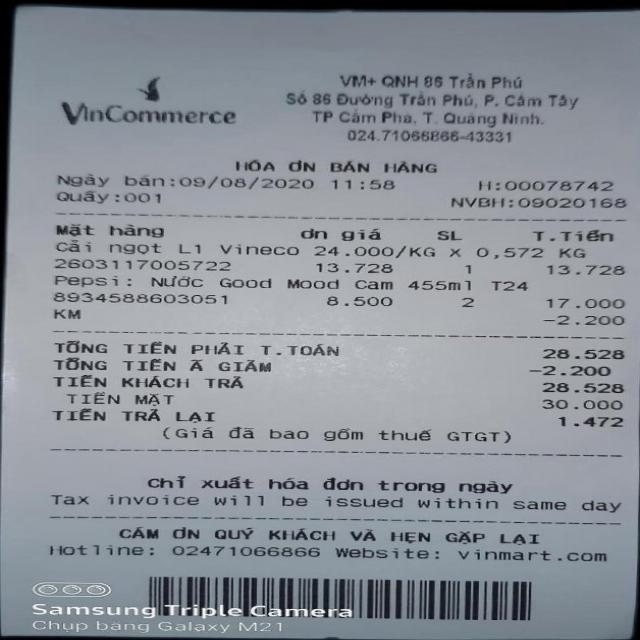Date: (180, 174, 321, 196)
Store_Name: (58, 72, 244, 139)
amount_number: (538, 341, 628, 362)
label_total: (47, 333, 354, 361)
